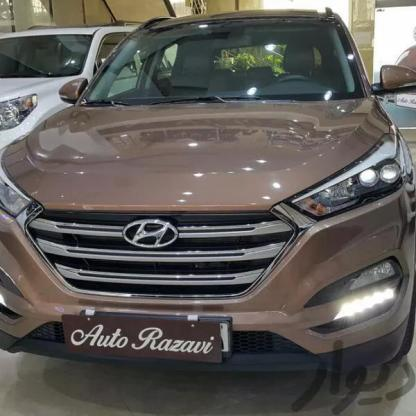Car: (0, 0, 416, 405), (0, 0, 149, 205)
